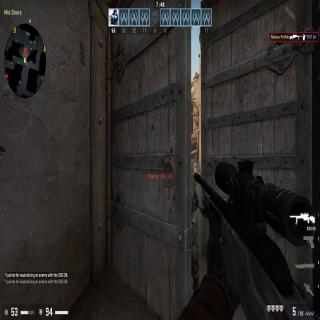CT-Body: (191, 164, 199, 291)
